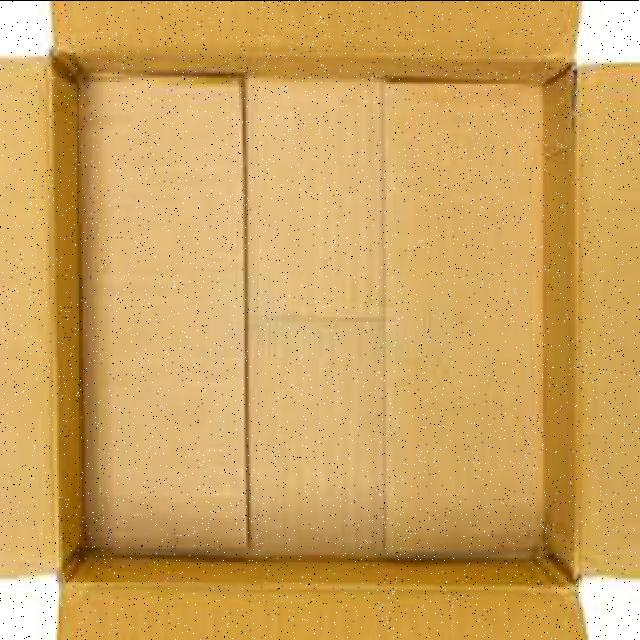normal: (90, 88, 538, 544)
